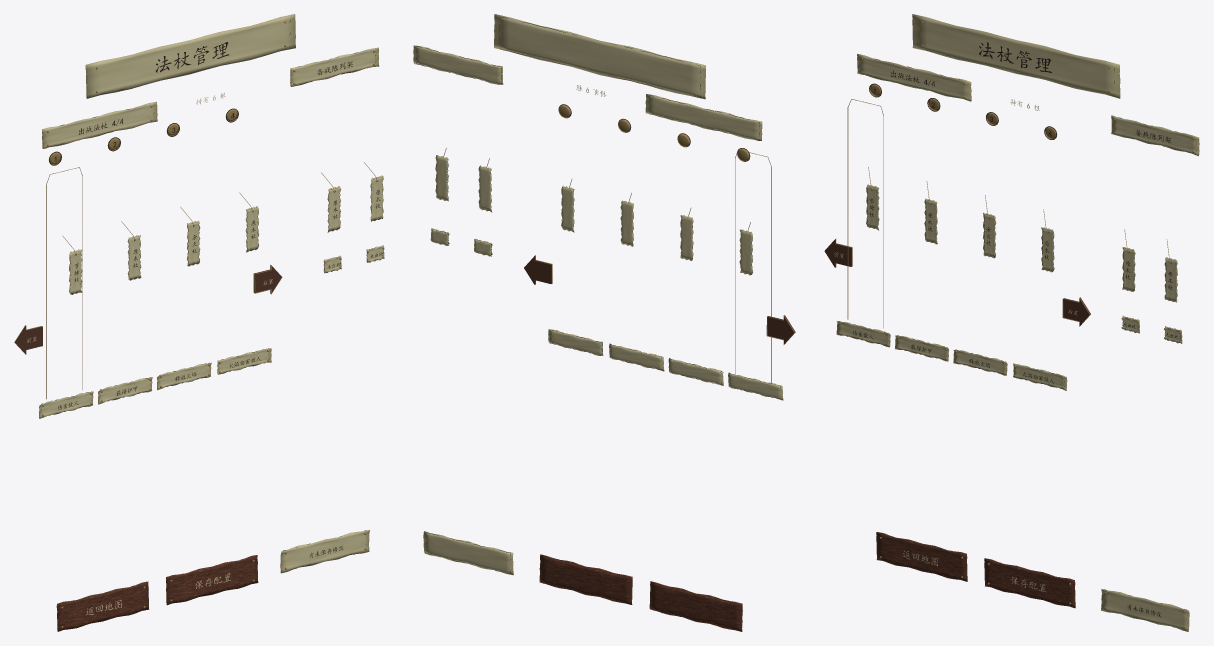
The model's file is WM-07-tags-and-controls.glb.
3 renders of one model, left to right at view 1: azimuth 30°, elevation 25°; view 2: azimuth 150°, elevation 25°; view 3: azimuth 330°, elevation 25°, orthographic.
Visible parts, largest first — view 1: WM07_Main_title_body.001, WM07_Back_body.001, WM07_Save_body.001, WM07_Deployed_heading_body.001, WM07_Unsaved_body.001, WM07_Reserve_heading_body.001, WM07_ReadOnly_spell_火焰伤害敌人_body.001, WM07_ReadOnly_spell_获得护甲_body.001, WM07_ReadOnly_spell_伤害敌人_body.001, WM07_ReadOnly_spell_释放火焰_body.001, WM07_Staff_name_tag_6.001, WM07_Staff_name_tag_1.001 (+6 smaller); view 2: WM07_Main_title_body.001, WM07_Save_body.001, WM07_Back_body.001, WM07_Deployed_heading_body.001, WM07_Unsaved_body.001, WM07_Reserve_heading_body.001, WM07_ReadOnly_spell_伤害敌人_body.001, WM07_ReadOnly_spell_获得护甲_body.001, WM07_ReadOnly_spell_释放火焰_body.001, WM07_ReadOnly_spell_火焰伤害敌人_body.001, WM07_Staff_name_tag_4.001, WM07_Staff_name_tag_6.001 (+6 smaller); view 3: WM07_Main_title_body.001, WM07_Back_body.001, WM07_Save_body.001, WM07_Deployed_heading_body.001, WM07_Unsaved_body.001, WM07_Reserve_heading_body.001, WM07_ReadOnly_spell_伤害敌人_body.001, WM07_ReadOnly_spell_火焰伤害敌人_body.001, WM07_ReadOnly_spell_释放火焰_body.001, WM07_ReadOnly_spell_获得护甲_body.001, WM07_Selected_staff_outline.001, WM07_Staff_name_tag_5.001 (+7 smaller).
Part boxes in pixels (bbox=[...]): WM07_Main_title_body.001: bbox=[85, 14, 295, 98]; WM07_Back_body.001: bbox=[56, 581, 149, 631]; WM07_Save_body.001: bbox=[166, 555, 258, 605]; WM07_Deployed_heading_body.001: bbox=[42, 101, 157, 148]; WM07_Unsaved_body.001: bbox=[280, 530, 369, 573]; WM07_Reserve_heading_body.001: bbox=[290, 47, 379, 86]; WM07_ReadOnly_spell_火焰伤害敌人_body.001: bbox=[217, 348, 271, 374]; WM07_ReadOnly_spell_获得护甲_body.001: bbox=[98, 377, 152, 404]; WM07_ReadOnly_spell_伤害敌人_body.001: bbox=[39, 391, 93, 418]; WM07_ReadOnly_spell_释放火焰_body.001: bbox=[157, 362, 211, 390]; WM07_Staff_name_tag_6.001: bbox=[370, 175, 383, 221]; WM07_Staff_name_tag_1.001: bbox=[69, 249, 82, 294]; WM07_Main_title_body.001: bbox=[494, 14, 705, 99]; WM07_Save_body.001: bbox=[539, 554, 632, 604]; WM07_Back_body.001: bbox=[649, 581, 742, 631]; WM07_Deployed_heading_body.001: bbox=[645, 94, 762, 140]; WM07_Unsaved_body.001: bbox=[423, 531, 513, 575]; WM07_Reserve_heading_body.001: bbox=[413, 45, 503, 84]; WM07_ReadOnly_spell_伤害敌人_body.001: bbox=[728, 372, 783, 400]; WM07_ReadOnly_spell_获得护甲_body.001: bbox=[668, 358, 723, 385]; WM07_ReadOnly_spell_释放火焰_body.001: bbox=[609, 343, 664, 371]; WM07_ReadOnly_spell_火焰伤害敌人_body.001: bbox=[548, 329, 603, 355]; WM07_Staff_name_tag_4.001: bbox=[561, 185, 574, 232]; WM07_Staff_name_tag_6.001: bbox=[435, 155, 448, 201]; WM07_Main_title_body.001: bbox=[912, 14, 1120, 98]; WM07_Back_body.001: bbox=[876, 532, 967, 581]; WM07_Save_body.001: bbox=[984, 558, 1075, 608]; WM07_Deployed_heading_body.001: bbox=[857, 54, 971, 101]; WM07_Unsaved_body.001: bbox=[1101, 589, 1189, 631]; WM07_Reserve_heading_body.001: bbox=[1111, 115, 1199, 156]; WM07_ReadOnly_spell_伤害敌人_body.001: bbox=[836, 321, 890, 347]; WM07_ReadOnly_spell_火焰伤害敌人_body.001: bbox=[1013, 363, 1067, 390]; WM07_ReadOnly_spell_释放火焰_body.001: bbox=[953, 350, 1007, 375]; WM07_ReadOnly_spell_获得护甲_body.001: bbox=[895, 335, 948, 361]; WM07_Selected_staff_outline.001: bbox=[847, 99, 883, 328]; WM07_Staff_name_tag_5.001: bbox=[1122, 247, 1135, 291].
Size of the model in its own units: 2.52 by 3.61 by 0.1938.
7 materials, 2 textured.
